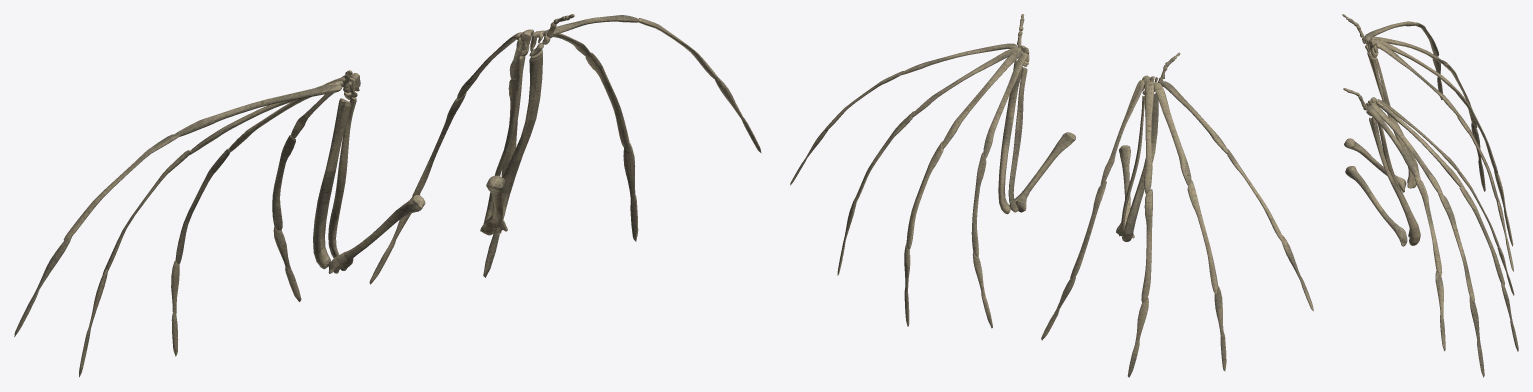
Rendered from mhw_elvs_static_wings4_bone_wings1.glb.
3 renders of one model, left to right at view 1: azimuth 30°, elevation 25°; view 2: azimuth 150°, elevation 25°; view 3: azimuth 270°, elevation 25°, orthographic. The views are drawn at different scales.
Visible parts, largest first — view 1: mhw_elvs_static_wings4_bone_wings1; view 2: mhw_elvs_static_wings4_bone_wings1; view 3: mhw_elvs_static_wings4_bone_wings1.
Part boxes in pixels (box(x1,y1,x2,y2)): mhw_elvs_static_wings4_bone_wings1: box(14, 14, 761, 377); mhw_elvs_static_wings4_bone_wings1: box(790, 14, 1313, 377); mhw_elvs_static_wings4_bone_wings1: box(1342, 14, 1518, 377).
Size of the model in its own units: 2.18 by 1.02 by 0.6482.
1 material, 1 textured.
